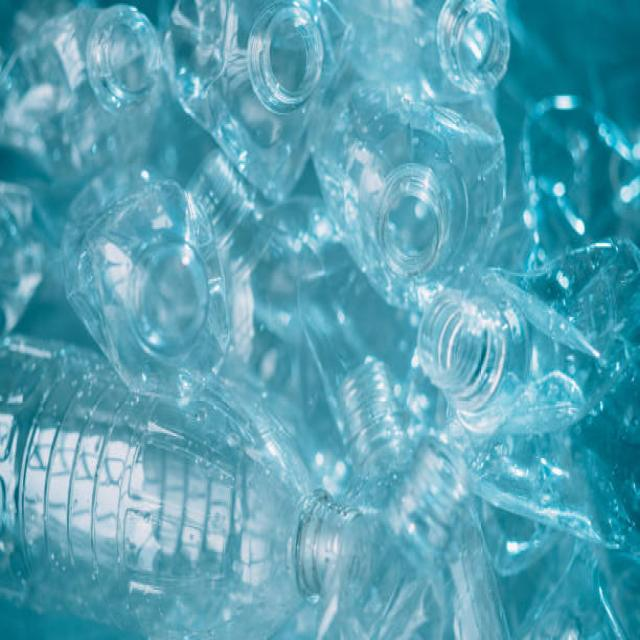plastic: (30, 58, 602, 618)
